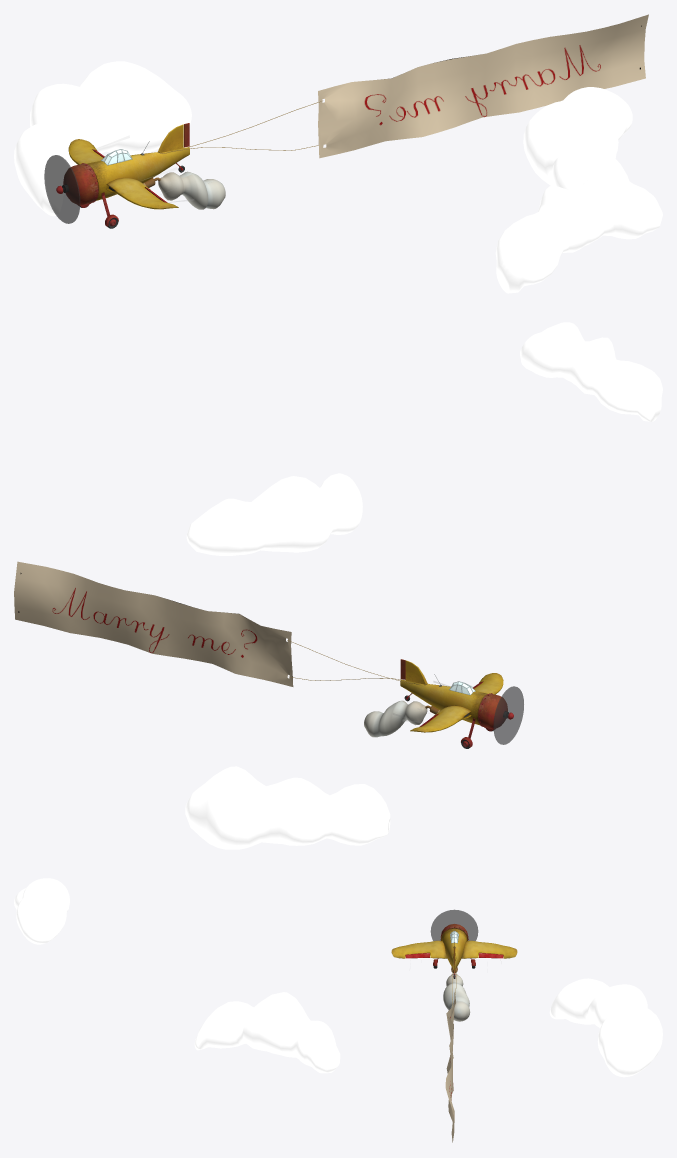
The picture shows the model from 3 angles, top to bottom: view 1: azimuth 30°, elevation 25°; view 2: azimuth 150°, elevation 25°; view 3: azimuth 270°, elevation 25°; orthographic projection. The views are drawn at different scales.
Visible parts, largest first — view 1: clouds, title, plane, propeller, wings, smoke; view 2: clouds, title, plane, smoke, propeller, wings; view 3: clouds, wings, smoke, propeller, plane, title.
Part boxes in pixels (x1,y1,x2,y2): clouds: (14,61,662,293); title: (318,14,648,158); plane: (56,123,189,205); propeller: (44,155,80,223); wings: (68,139,178,209); smoke: (158,171,225,209); clouds: (185,322,662,849); title: (14,561,293,686); plane: (400,659,513,729); smoke: (364,700,427,737); propeller: (493,686,523,744); wings: (410,673,503,732); clouds: (14,878,662,1077); wings: (391,940,517,958); smoke: (443,973,470,1021); propeller: (430,909,478,940); plane: (440,924,468,978); title: (445,992,455,1142).
Bounding box in the file's own units: 35.23 × 16.27 × 49.82.
Materials: 11 (8 with a texture image).
